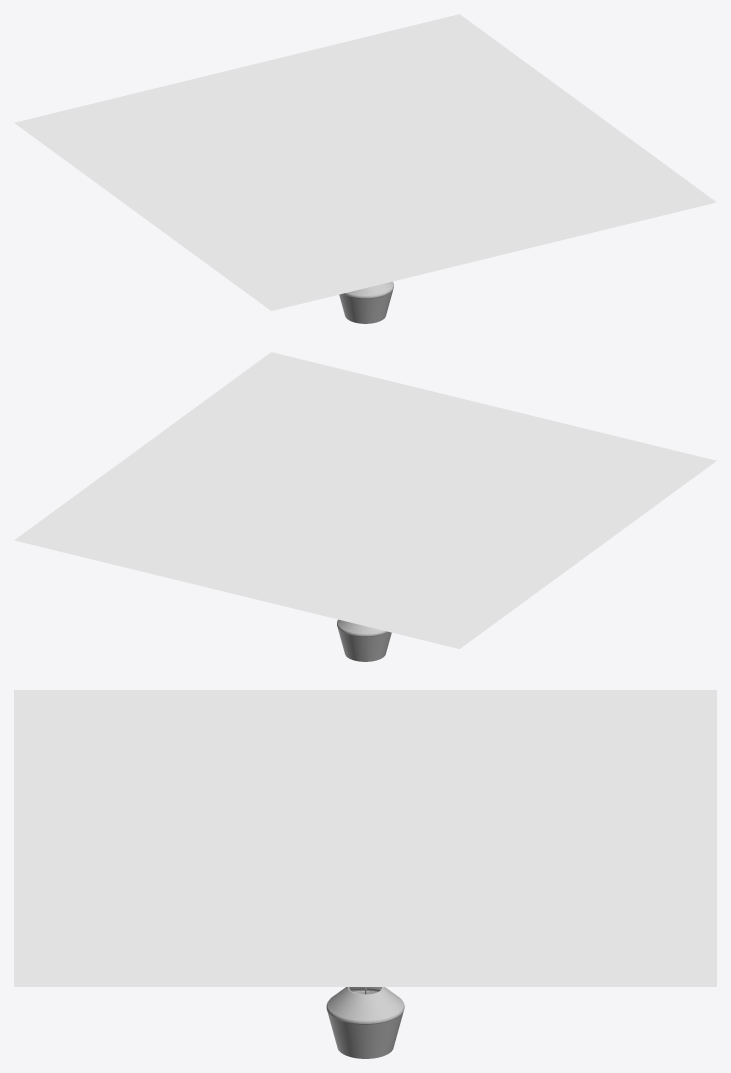
3 views of the same model, one above another, from view 1: azimuth 30°, elevation 25°; view 2: azimuth 150°, elevation 25°; view 3: azimuth 270°, elevation 25° (orthographic). The views are drawn at different scales.
Parts seen in each view (by area): view 1: Plane001, Tuli_Cluster_Pendant_Light_GreyTones; view 2: Plane001, Tuli_Cluster_Pendant_Light_GreyTones; view 3: Plane001, Tuli_Cluster_Pendant_Light_GreyTones.
Part boxes in pixels (x1,y1,x2,y2): Plane001: [14, 14, 716, 310]; Tuli_Cluster_Pendant_Light_GreyTones: [339, 281, 393, 323]; Plane001: [14, 352, 716, 648]; Tuli_Cluster_Pendant_Light_GreyTones: [337, 619, 391, 661]; Plane001: [14, 690, 716, 986]; Tuli_Cluster_Pendant_Light_GreyTones: [326, 987, 404, 1058].
Bounding box in the file's own units: 334 × 109 × 334.
